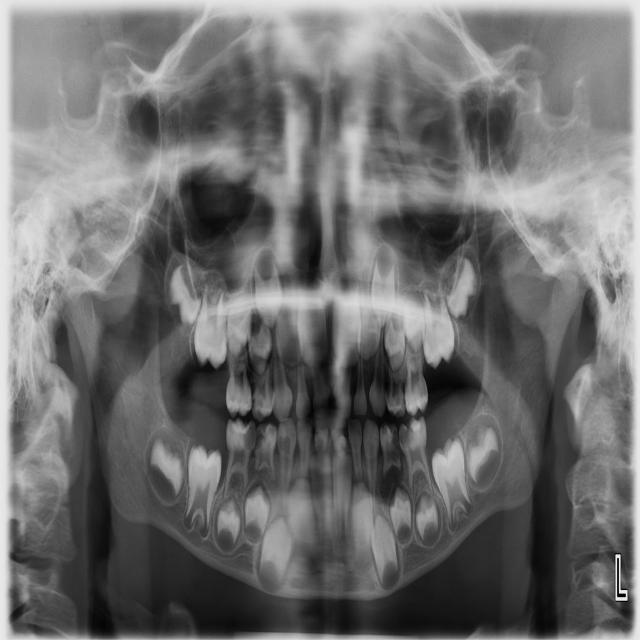mandibula: (64, 275, 578, 597)
